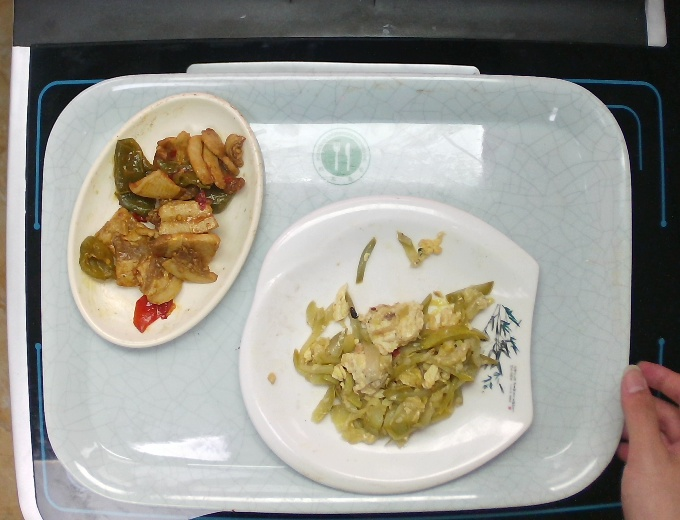JYsf-Mian_Pan: (232, 191, 543, 497)
JYsf-Tuo_Yuan_Wan: (65, 90, 267, 351)
